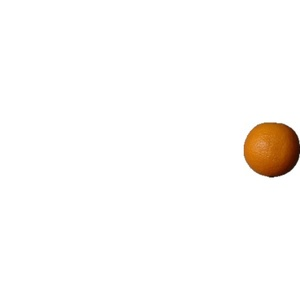laranja: (243, 120, 298, 179)
